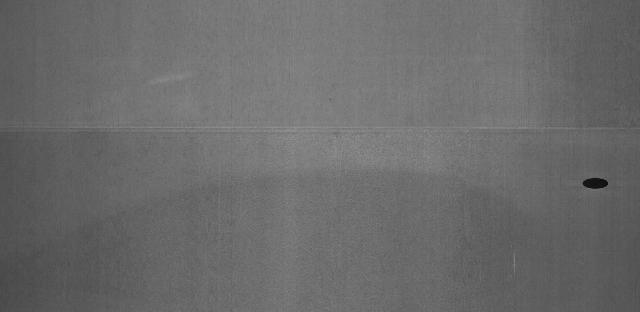punching_hole: (579, 176, 612, 195)
welding_line: (0, 118, 637, 140)
